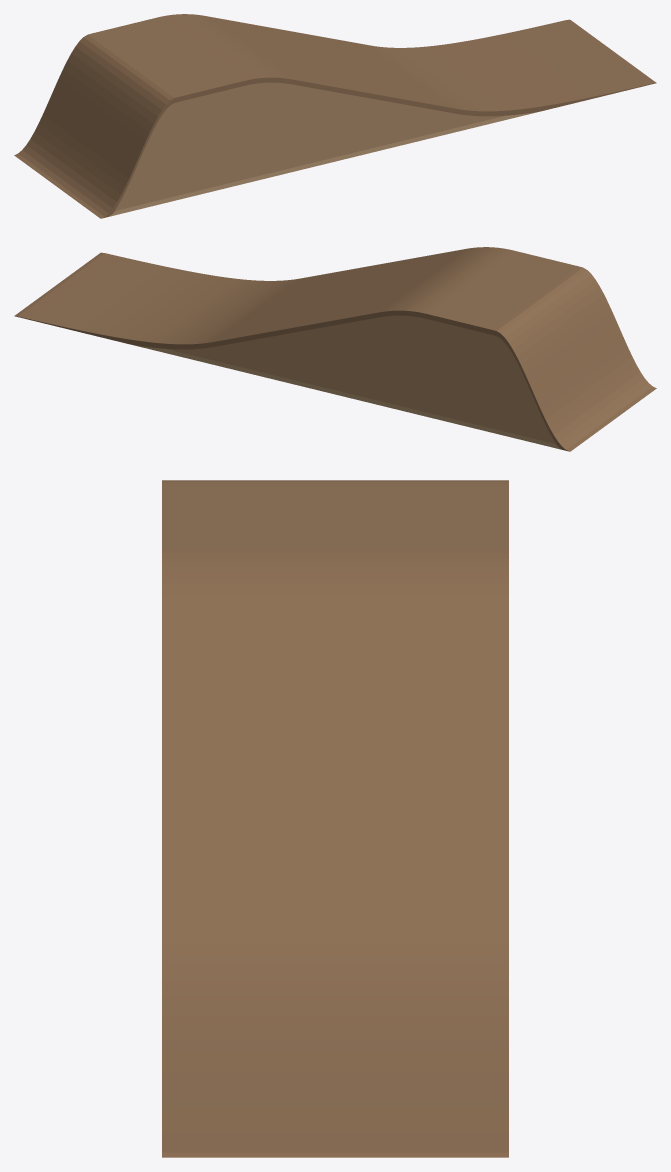
Rendered from DR_Prop_ScrubLanding.fbx.
The picture shows the model from 3 angles, top to bottom: view 1: azimuth 30°, elevation 25°; view 2: azimuth 150°, elevation 25°; view 3: azimuth 270°, elevation 25°; orthographic projection. The views are drawn at different scales.
Visible parts, largest first — view 1: DR_Prop_ScrubLanding; view 2: DR_Prop_ScrubLanding; view 3: DR_Prop_ScrubLanding.
Boxes of the visible parts, x1,y1,x2,y2 form: DR_Prop_ScrubLanding: [14, 14, 656, 218]; DR_Prop_ScrubLanding: [14, 247, 656, 451]; DR_Prop_ScrubLanding: [162, 480, 508, 1157].
Bounding box in the file's own units: 4.07 × 0.72 × 1.1.
